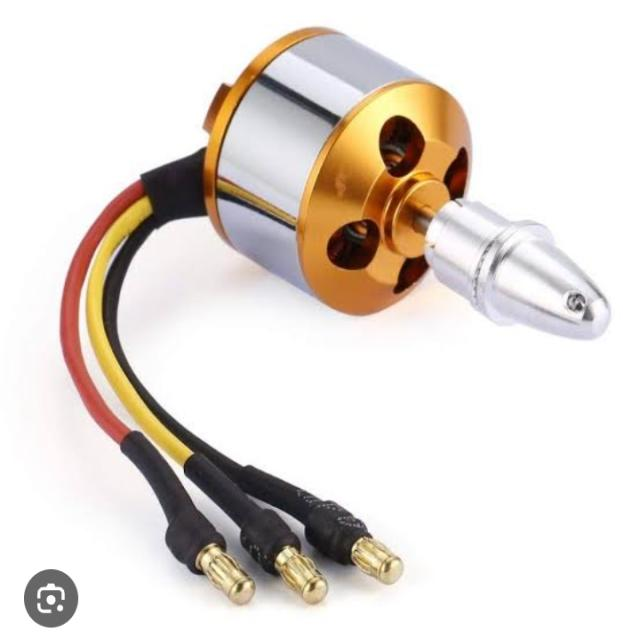motor: (192, 27, 612, 334)
